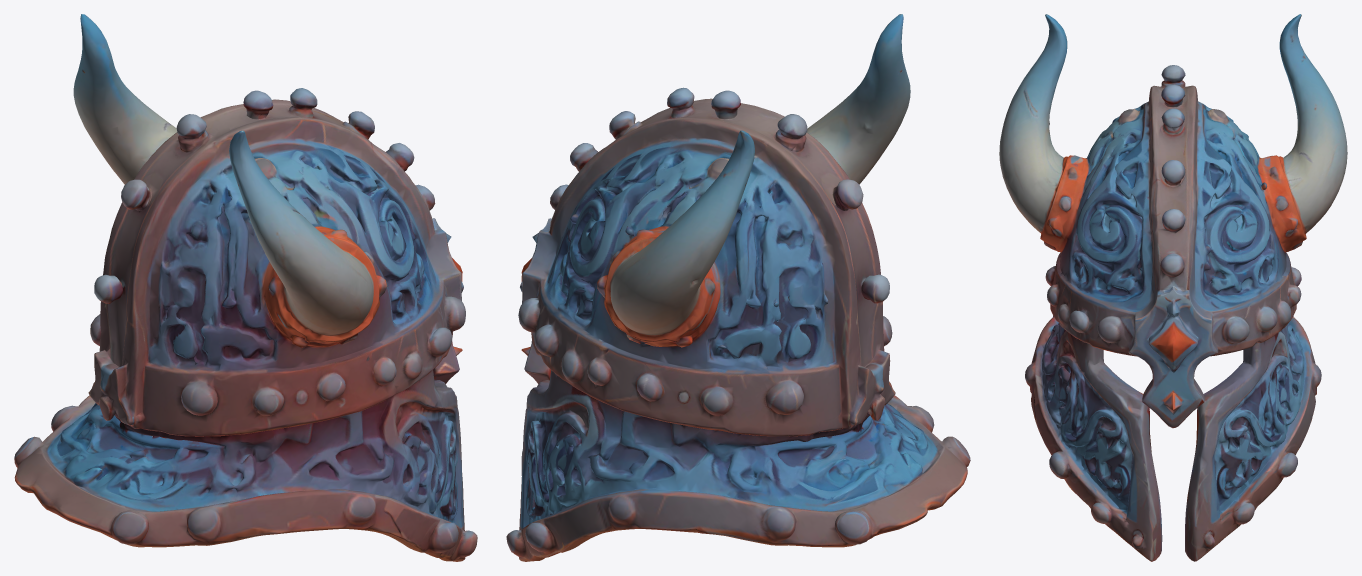
File: metalhelmet2.glb
3 views of the same model, side by side, from view 1: azimuth 30°, elevation 25°; view 2: azimuth 150°, elevation 25°; view 3: azimuth 270°, elevation 25° (orthographic). The views are drawn at different scales.
Parts seen in each view (by area): view 1: tripo_node_10833eb6-aa46-4dbc-9847-ab9d33920d51; view 2: tripo_node_10833eb6-aa46-4dbc-9847-ab9d33920d51; view 3: tripo_node_10833eb6-aa46-4dbc-9847-ab9d33920d51.
Part boxes in pixels (left/top/right/bottom): tripo_node_10833eb6-aa46-4dbc-9847-ab9d33920d51: left=14, top=14, right=477, bottom=561; tripo_node_10833eb6-aa46-4dbc-9847-ab9d33920d51: left=506, top=14, right=970, bottom=561; tripo_node_10833eb6-aa46-4dbc-9847-ab9d33920d51: left=999, top=14, right=1347, bottom=561.
Bounding box in the file's own units: 0.8076 × 1 × 0.722.
1 material, 1 textured.
